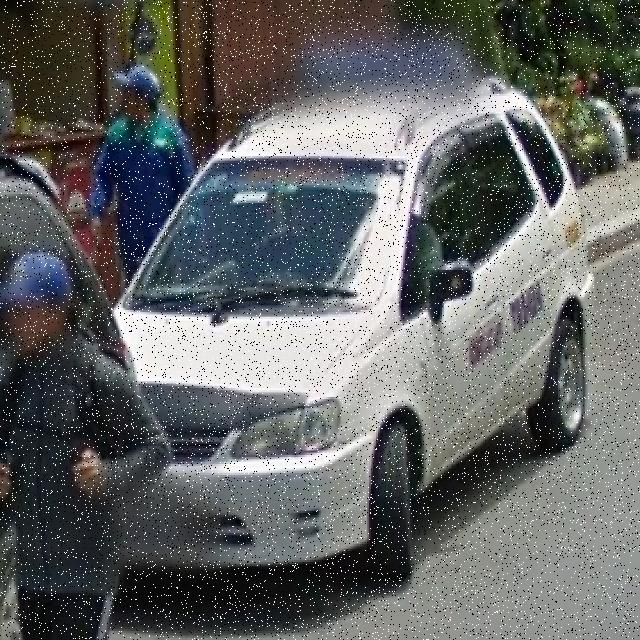cars: (90, 74, 605, 595)
